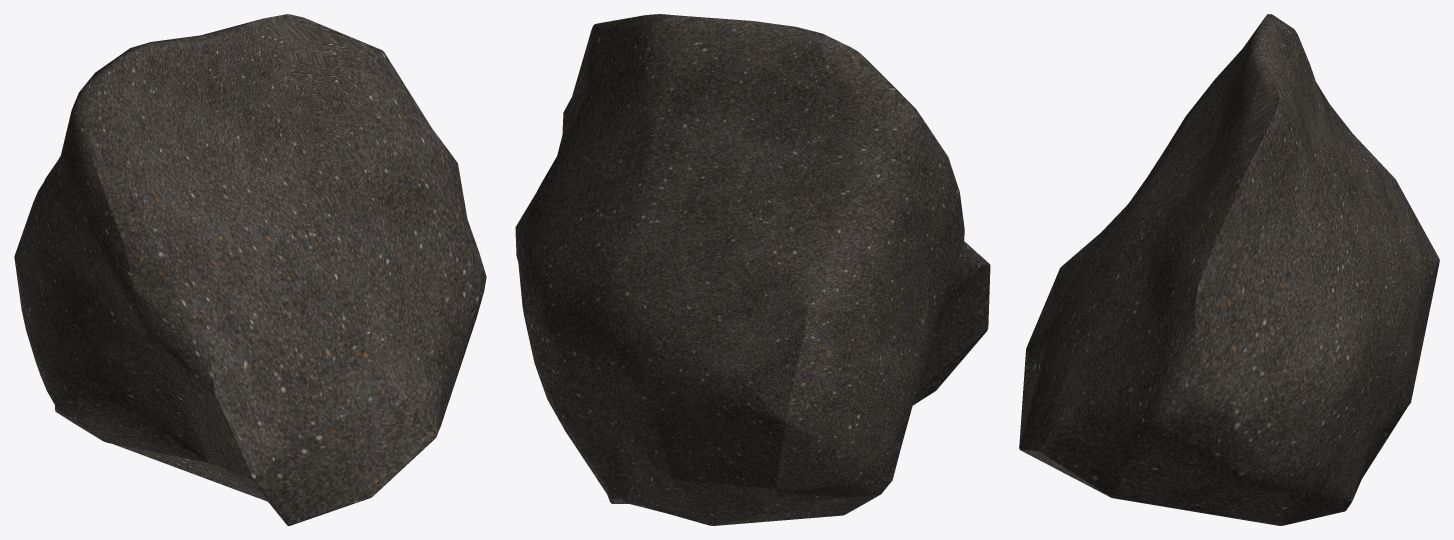
The model's file is rock_3.fbx.
3 renders of one model, left to right at view 1: azimuth 30°, elevation 25°; view 2: azimuth 150°, elevation 25°; view 3: azimuth 270°, elevation 25°, orthographic. The views are drawn at different scales.
Visible parts, largest first — view 1: pPlatonic12; view 2: pPlatonic12; view 3: pPlatonic12.
Boxes of the visible parts, <box> form: pPlatonic12: <box>14,14,486,525</box>; pPlatonic12: <box>515,14,990,525</box>; pPlatonic12: <box>1019,14,1439,525</box>.
Bounding box in the file's own units: 2.71 × 2.99 × 2.65.
Materials: 1 (1 with a texture image).
